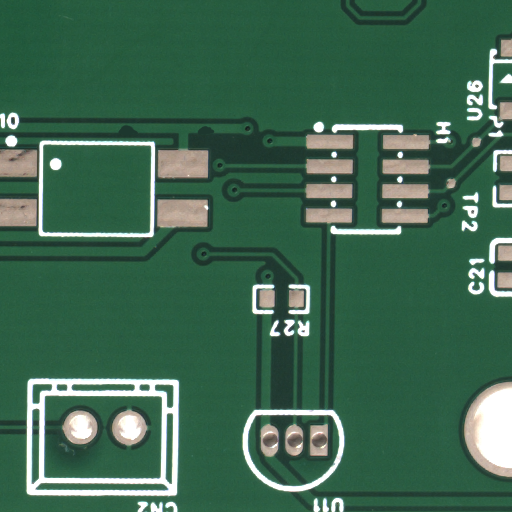Mouse_bite: (128, 130, 149, 141), (204, 129, 222, 139)
